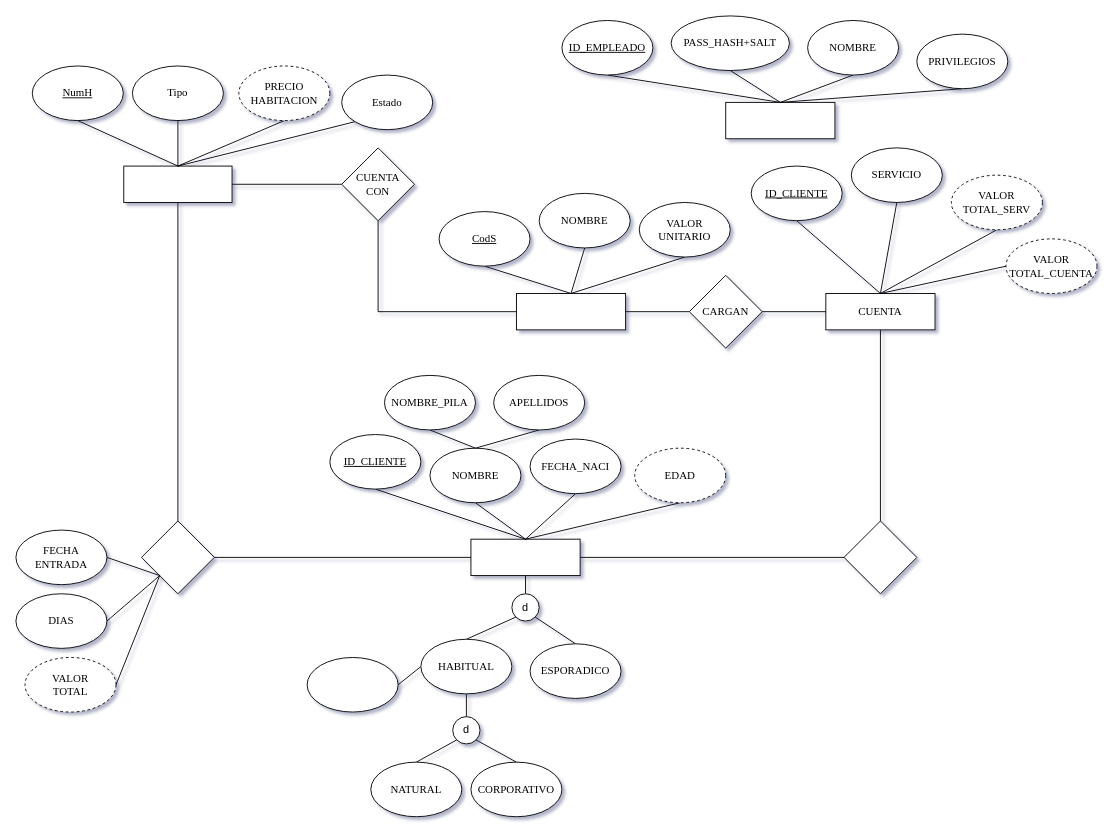
The diagram is 1118 pixels wide and 838 high, and some of its shapes have lost their labels. Here are the shapes that lost their labels. From the top down, the box of each, then its label:
(725, 101, 835, 139): USUARIO
(123, 165, 232, 202): HABITACION
(516, 293, 626, 330): SERVICIOS
(141, 520, 214, 594): RESERVA
(470, 538, 580, 576): CLIENTE
(843, 520, 917, 594): TIENE
(306, 657, 398, 712): DESCUENTO
